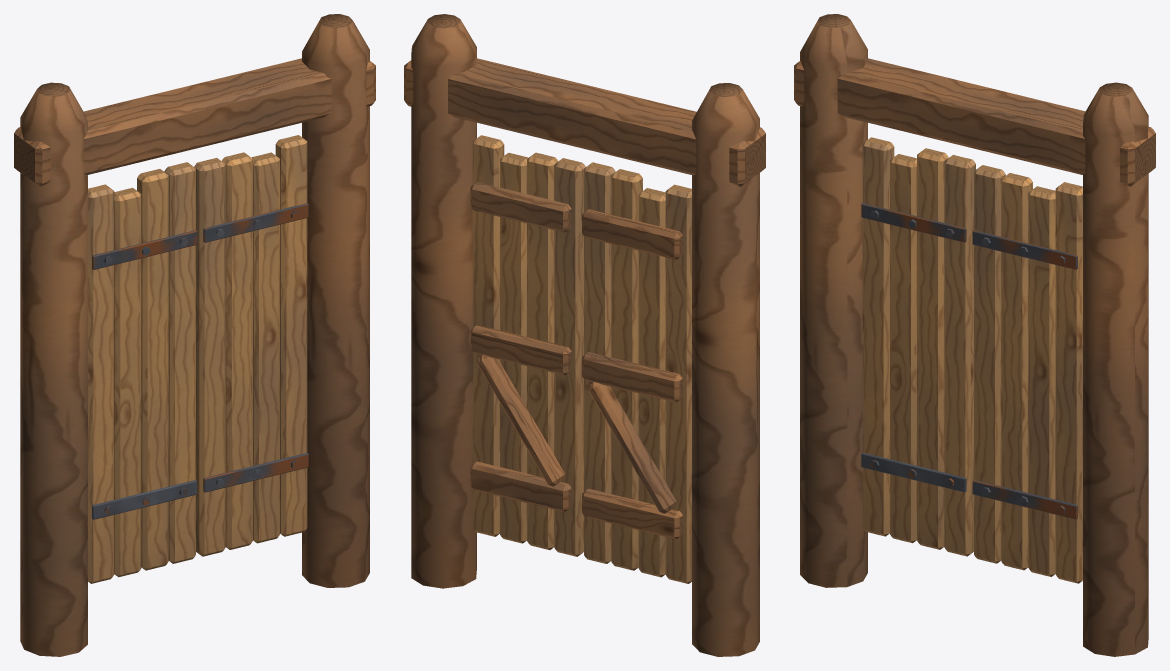
Rendered from sur_kapisi.glb.
3 renders of one model, left to right at view 1: azimuth 30°, elevation 25°; view 2: azimuth 150°, elevation 25°; view 3: azimuth 330°, elevation 25°, orthographic.
Visible parts, largest first — view 1: sur_kapisi, KanatSag, KanatSol; view 2: sur_kapisi, KanatSag, KanatSol; view 3: sur_kapisi, KanatSol, KanatSag.
Part boxes in pixels (x1,y1,x2,y2): sur_kapisi: (14,14,375,656); KanatSag: (194,135,308,556); KanatSol: (88,162,197,583); sur_kapisi: (404,14,765,656); KanatSag: (470,135,585,556); KanatSol: (582,162,691,583); sur_kapisi: (794,14,1155,656); KanatSol: (861,137,975,556); KanatSag: (972,165,1082,583).
Size of the model in its own units: 3 by 4.65 by 0.515.
Materials: 1 (1 with a texture image).
